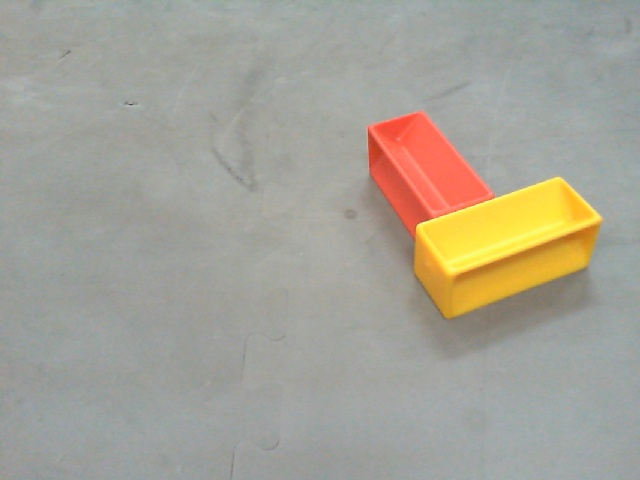RedSample: (367, 109, 496, 237)
YellowSample: (416, 176, 603, 319)
